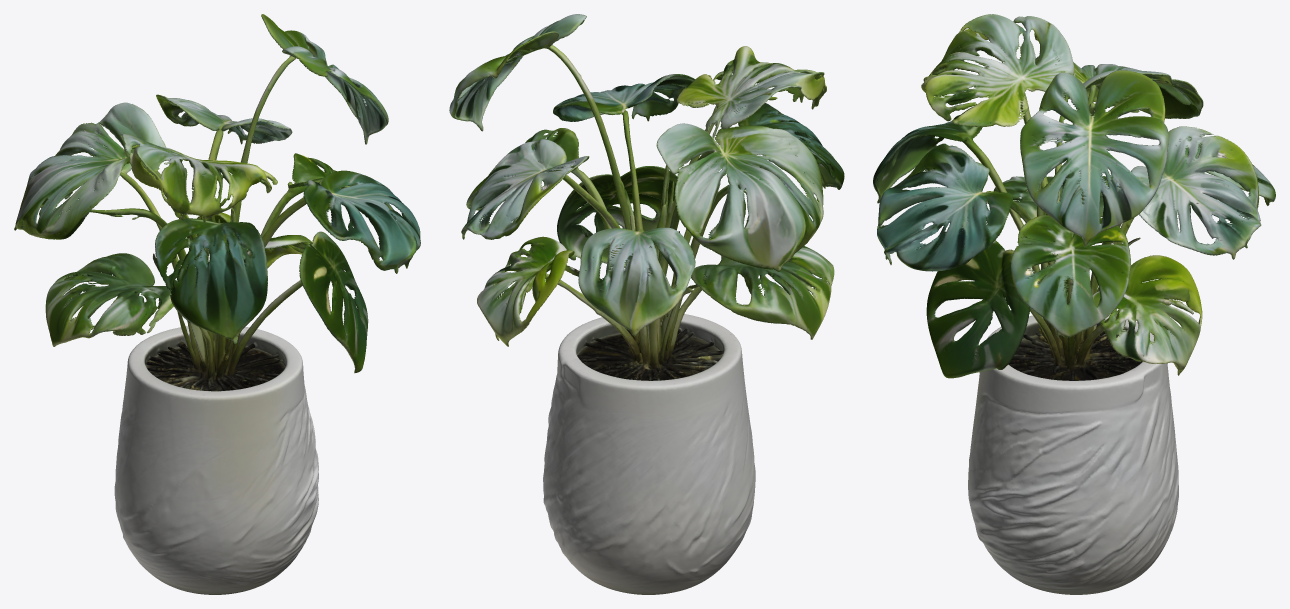
File: 123_Original_06.glb
3 views of the same model, side by side, from view 1: azimuth 30°, elevation 25°; view 2: azimuth 150°, elevation 25°; view 3: azimuth 270°, elevation 25° (orthographic). The views are drawn at different scales.
Visible parts, largest first — view 1: tripo_node_8303c868-020c-4fa2-9ff7-839833b9f1cf; view 2: tripo_node_8303c868-020c-4fa2-9ff7-839833b9f1cf; view 3: tripo_node_8303c868-020c-4fa2-9ff7-839833b9f1cf.
Boxes of the visible parts, x1,y1,x2,y2 form: tripo_node_8303c868-020c-4fa2-9ff7-839833b9f1cf: [14, 14, 420, 594]; tripo_node_8303c868-020c-4fa2-9ff7-839833b9f1cf: [449, 14, 844, 594]; tripo_node_8303c868-020c-4fa2-9ff7-839833b9f1cf: [873, 14, 1275, 594].
Bounding box in the file's own units: 0.6802 × 1 × 0.6764.
1 material, 1 textured.
